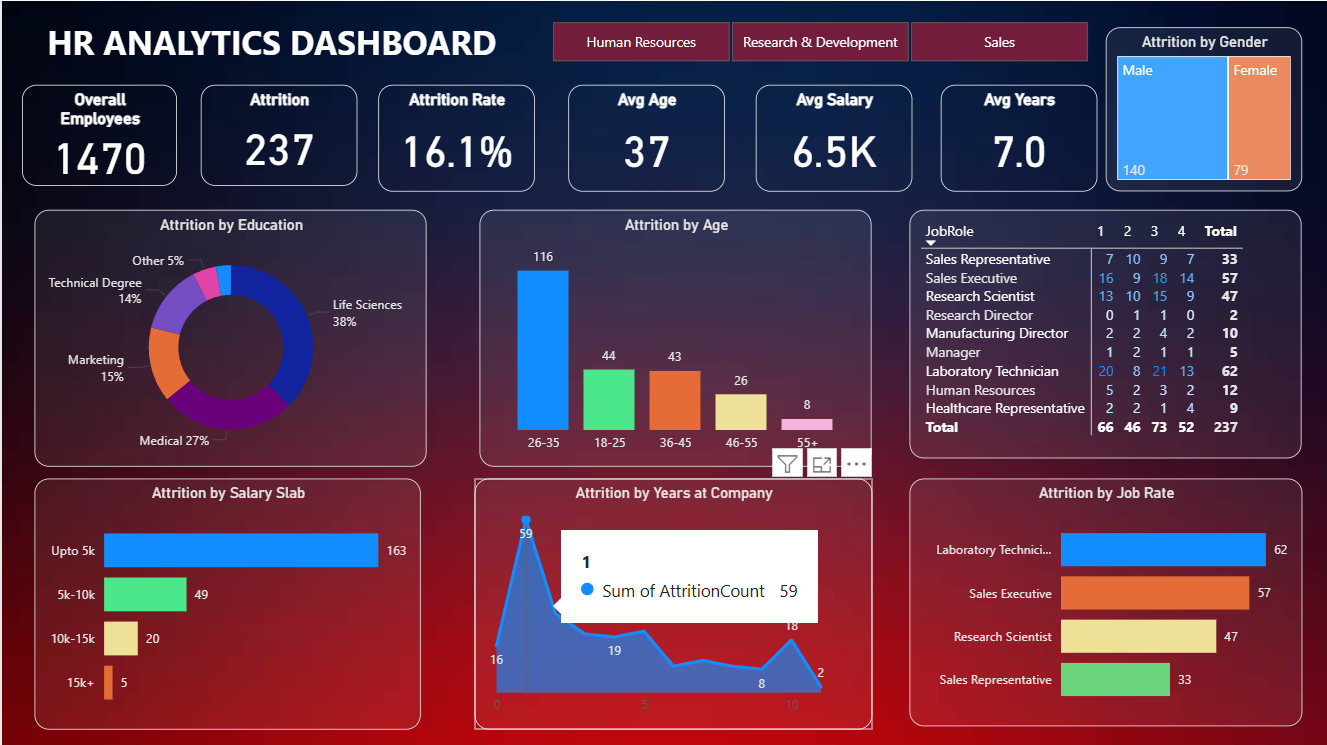

The dashboard page shown, as its layout file describes it:
{"tool":"powerbi","page":{"name":"Page 1","canvas":[1280,720],"ordinal":0},"visuals":[{"type":"card","title":"Overall Employees","fields":{"Values":["Count(HR_Analytics.EmpID)"]},"box":[19.1,80.6,149.6,97.4],"z":0},{"type":"card","title":"Attrition","fields":{"Values":["Sum(HR_Analytics.AttritionCount)"]},"box":[192,80.6,150.9,97.4],"z":1000},{"type":"card","title":"Attrition Rate","fields":{"Values":["select","HR_Analytics.AttritionRate"]},"box":[363.5,80.6,150.9,102.9],"z":2000},{"type":"card","title":"Avg Age","fields":{"Values":["Avg(HR_Analytics.Age)"]},"box":[546.1,80.6,150.9,102.9],"z":3000},{"type":"card","title":"Avg Salary","fields":{"Values":["Avg(HR_Analytics.MonthlyIncome)"]},"box":[727.2,80.6,150.9,102.9],"z":4000},{"type":"card","title":"Avg Years","fields":{"Values":["Avg(HR_Analytics.YearsAtCompany)"]},"box":[905.6,80.6,150.9,102.9],"z":5000},{"type":"donutChart","title":"Attrition by Education","fields":{"Category":["HR_Analytics.EducationField"],"Y":["Sum(HR_Analytics.AttritionCount)"]},"box":[31.7,201.9,378.7,248.4],"z":6000},{"type":"columnChart","title":"Attrition by Age","fields":{"Category":["HR_Analytics.AgeGroup"],"Y":["Sum(HR_Analytics.AttritionCount)"]},"box":[461.2,201.9,378.7,248.4],"z":7000},{"type":"pivotTable","fields":{"Rows":["HR_Analytics.JobRole"],"Columns":["HR_Analytics.JobSatisfaction"],"Values":["Sum(HR_Analytics.AttritionCount)"]},"box":[875.6,201.9,378.7,240.1],"z":8000},{"type":"barChart","title":"Attrition by Salary Slab","fields":{"Category":["HR_Analytics.SalarySlab"],"Y":["Sum(HR_Analytics.AttritionCount)"]},"box":[31.4,460.9,372.8,242.5],"z":9000},{"type":"barChart","title":"Attrition by Job Rate","fields":{"Y":["Sum(HR_Analytics.AttritionCount)"],"Category":["HR_Analytics.JobRole"]},"box":[875.9,460.9,378.8,238.9],"z":10000},{"type":"areaChart","title":"Attrition by Years at Company","fields":{"Category":["HR_Analytics.YearsAtCompany"],"Y":["Sum(HR_Analytics.AttritionCount)"]},"box":[456,460.9,383.6,242.5],"z":11000},{"type":"treemap","title":"Attrition by Gender","fields":{"Group":["HR_Analytics.Gender"],"Values":["Sum(HR_Analytics.AttritionCount)"]},"box":[1065.3,25.3,189.4,158],"z":12000},{"type":"slicer","fields":{"Values":["HR_Analytics.Department"]},"box":[505,13.7,566.7,52.1],"z":13000},{"type":"textbox","box":[38.4,13.7,570.8,65.9],"z":14000}]}

Visuals, with their boxes in screenshot pixels (x1, y1, x2, y2), scaled from the page's 1280x720 canvas onto the 1327x745 screenshot:
"Overall Employees" card: [20, 83, 175, 184]
"Attrition" card: [199, 83, 355, 184]
"Attrition Rate" card: [377, 83, 533, 190]
"Avg Age" card: [566, 83, 723, 190]
"Avg Salary" card: [754, 83, 910, 190]
"Avg Years" card: [939, 83, 1095, 190]
"Attrition by Education" donutChart: [33, 209, 425, 466]
"Attrition by Age" columnChart: [478, 209, 871, 466]
pivotTable - HR_Analytics.JobRole x HR_Analytics.JobSatisfaction: [908, 209, 1300, 457]
"Attrition by Salary Slab" barChart: [33, 477, 419, 728]
"Attrition by Job Rate" barChart: [908, 477, 1301, 724]
"Attrition by Years at Company" areaChart: [473, 477, 870, 728]
"Attrition by Gender" treemap: [1104, 26, 1301, 190]
slicer - HR_Analytics.Department: [524, 14, 1111, 68]
textbox: [40, 14, 632, 82]
